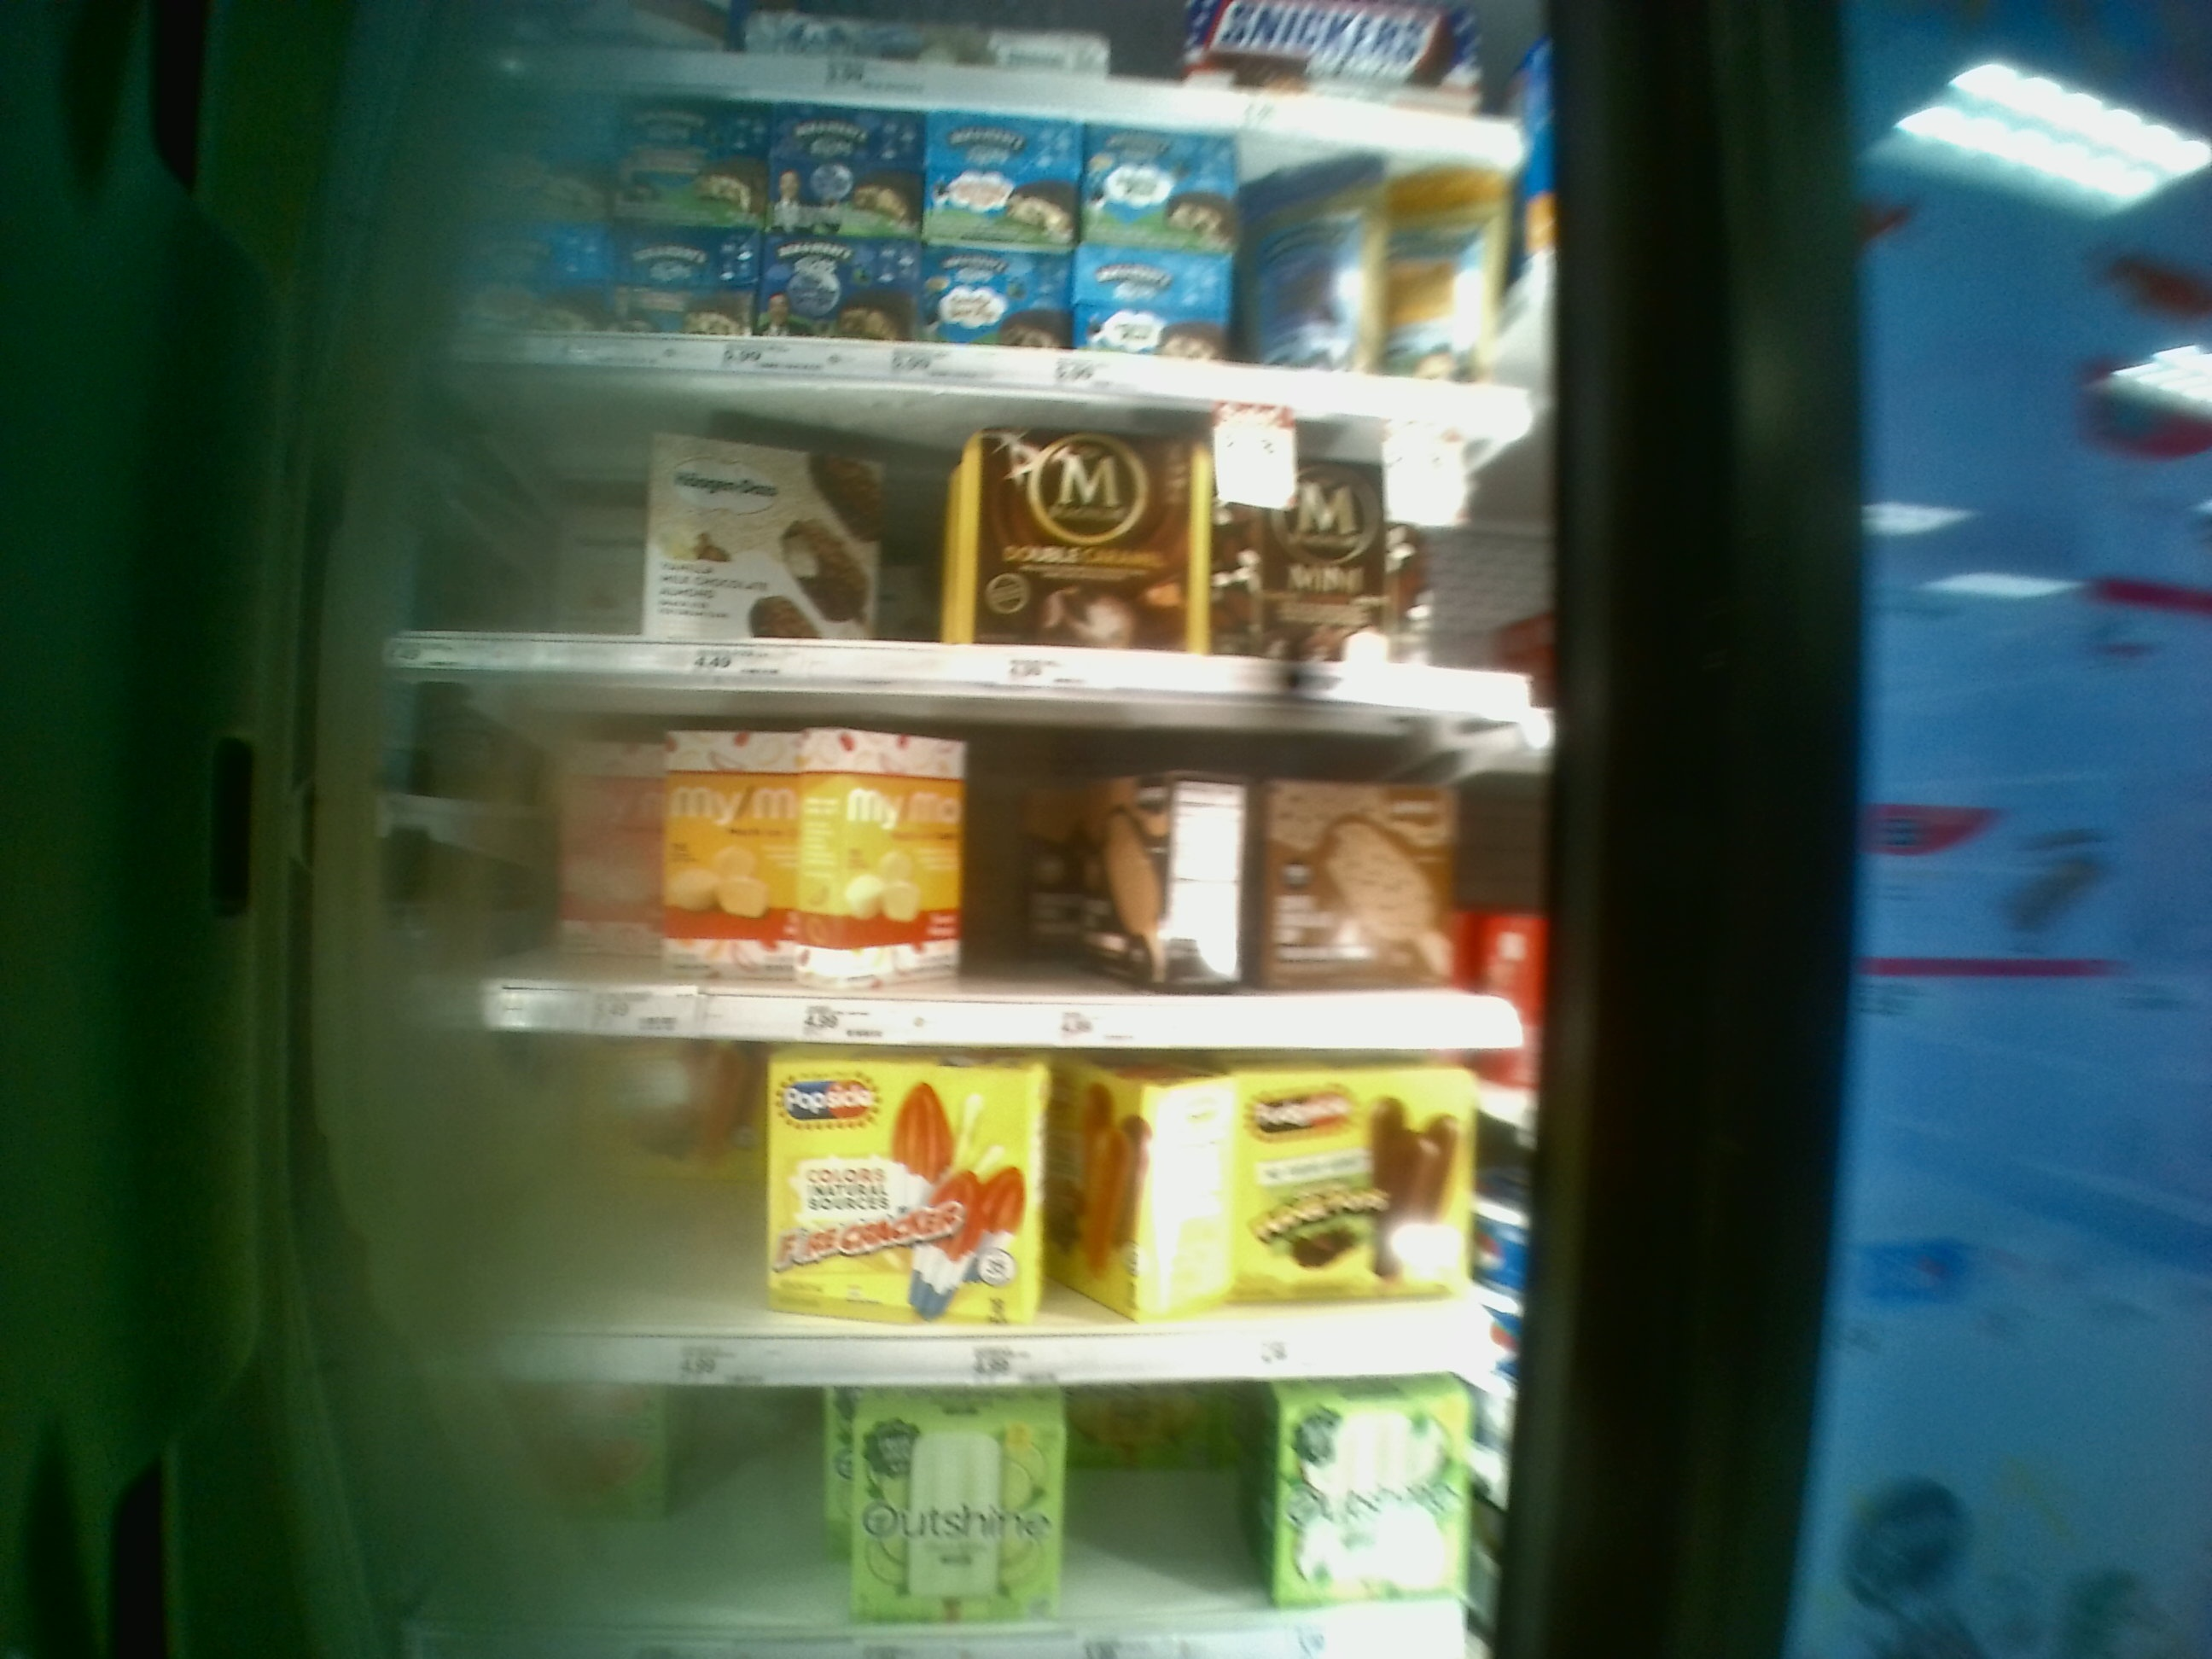ice-cream-shelf: (387, 683, 1543, 1037), (406, 362, 1548, 704), (456, 1042, 1526, 1384)
